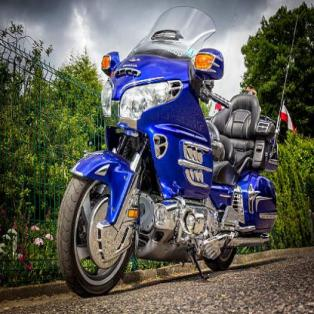Motocicleta: (50, 8, 286, 298)
